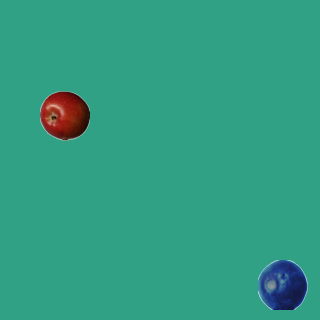Apple Braeburn: (39, 90, 89, 140)
Huckleberry: (257, 259, 307, 309)
